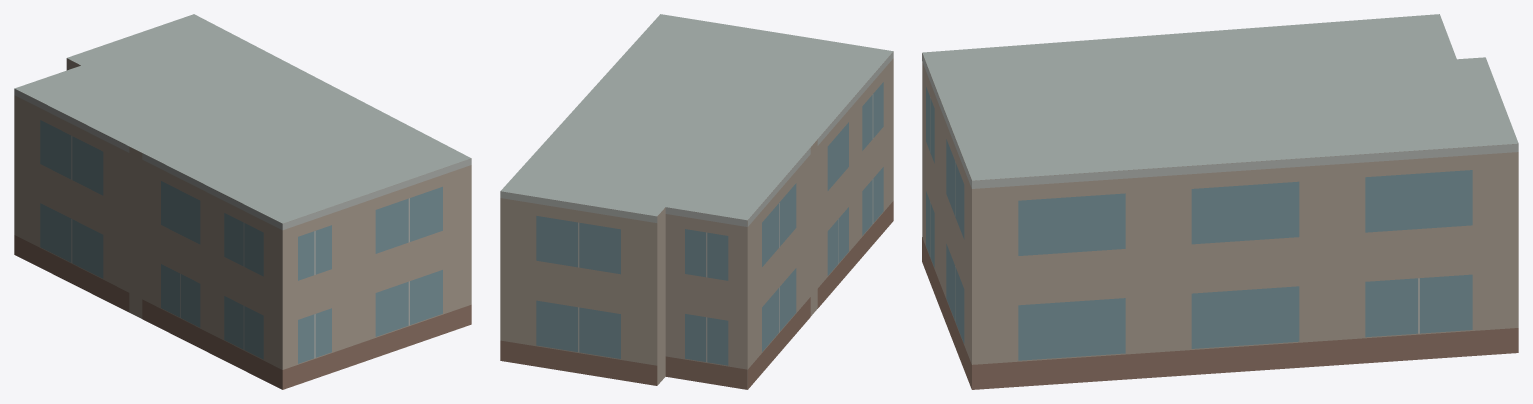
Rendered from survey-upis-32708431.glb.
3 renders of one model, left to right at view 1: azimuth 30°, elevation 25°; view 2: azimuth 150°, elevation 25°; view 3: azimuth 270°, elevation 25°, orthographic. The views are drawn at different scales.
Parts seen in each view (by area): view 1: survey-upis-32708431.tmp; view 2: survey-upis-32708431.tmp; view 3: survey-upis-32708431.tmp.
Part boxes in pixels (left/top/right/bottom): survey-upis-32708431.tmp: left=14, top=14, right=471, bottom=389; survey-upis-32708431.tmp: left=500, top=14, right=893, bottom=389; survey-upis-32708431.tmp: left=922, top=14, right=1518, bottom=389.
Bounding box in the file's own units: 10.43 × 6.1 × 15.78.
